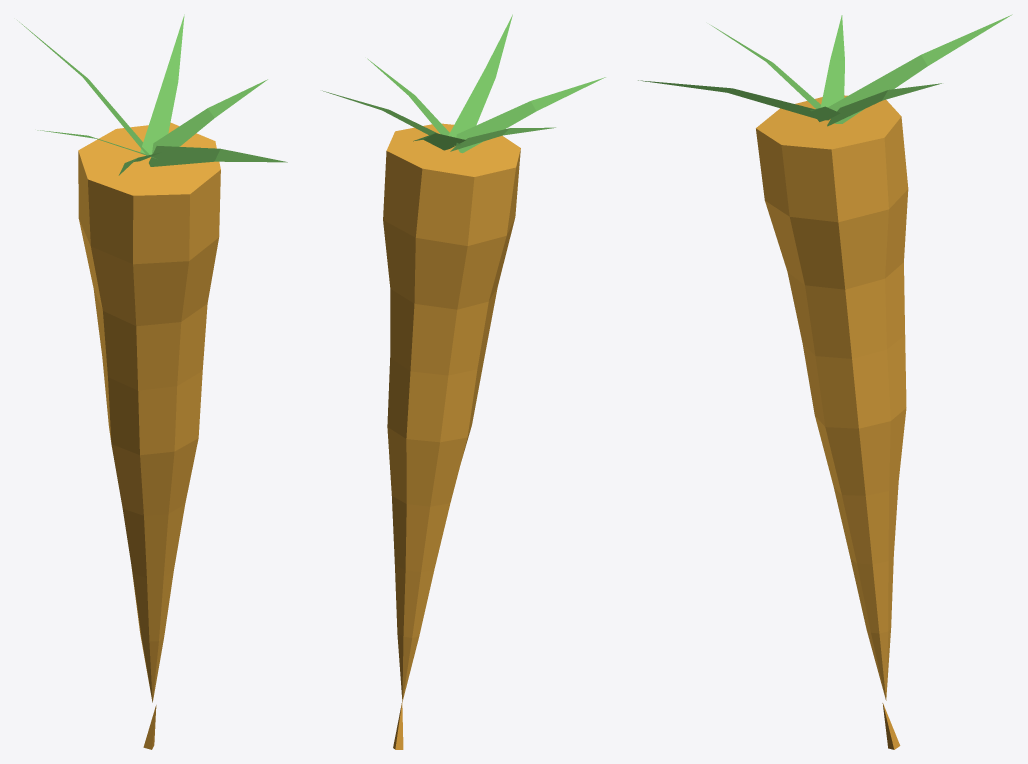
Rendered from carrots.fbx.
3 views of the same model, side by side, from view 1: azimuth 30°, elevation 25°; view 2: azimuth 150°, elevation 25°; view 3: azimuth 270°, elevation 25° (orthographic). The views are drawn at different scales.
Parts seen in each view (by area): view 1: LowPoly_Carrot; view 2: LowPoly_Carrot; view 3: LowPoly_Carrot.
Boxes of the visible parts, x1,y1,x2,y2 form: LowPoly_Carrot: (17,14,287,749); LowPoly_Carrot: (322,14,605,749); LowPoly_Carrot: (638,14,1012,749).
Size of the model in its own units: 120 by 369 by 181.
